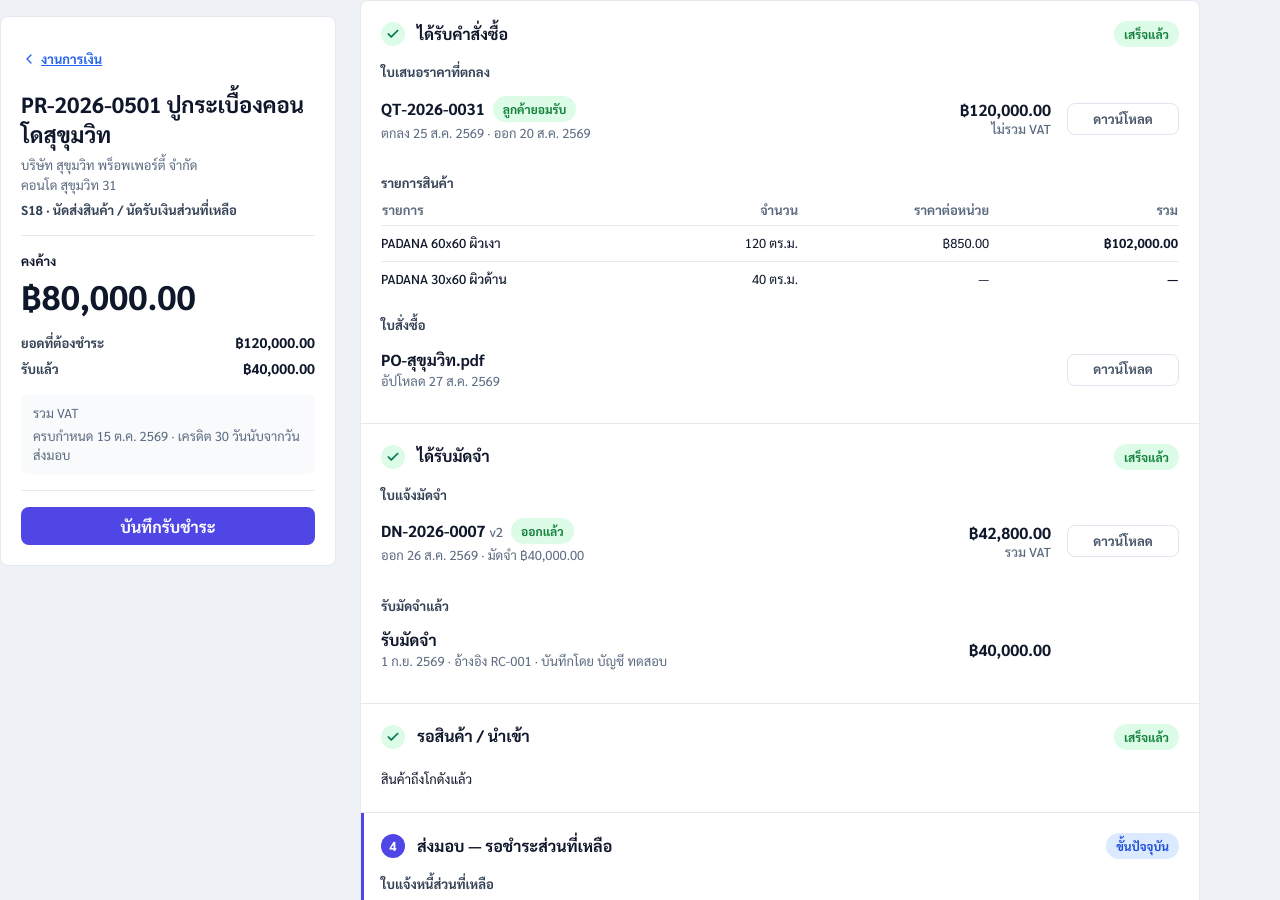
Test: FinanceDealPage › money actions › a server error stays inside the modal (message from the ApiError), and the modal stays open
Click the button "บันทึกรับชำระ" at (168, 526), box x1=21 y1=507 x2=315 y2=545
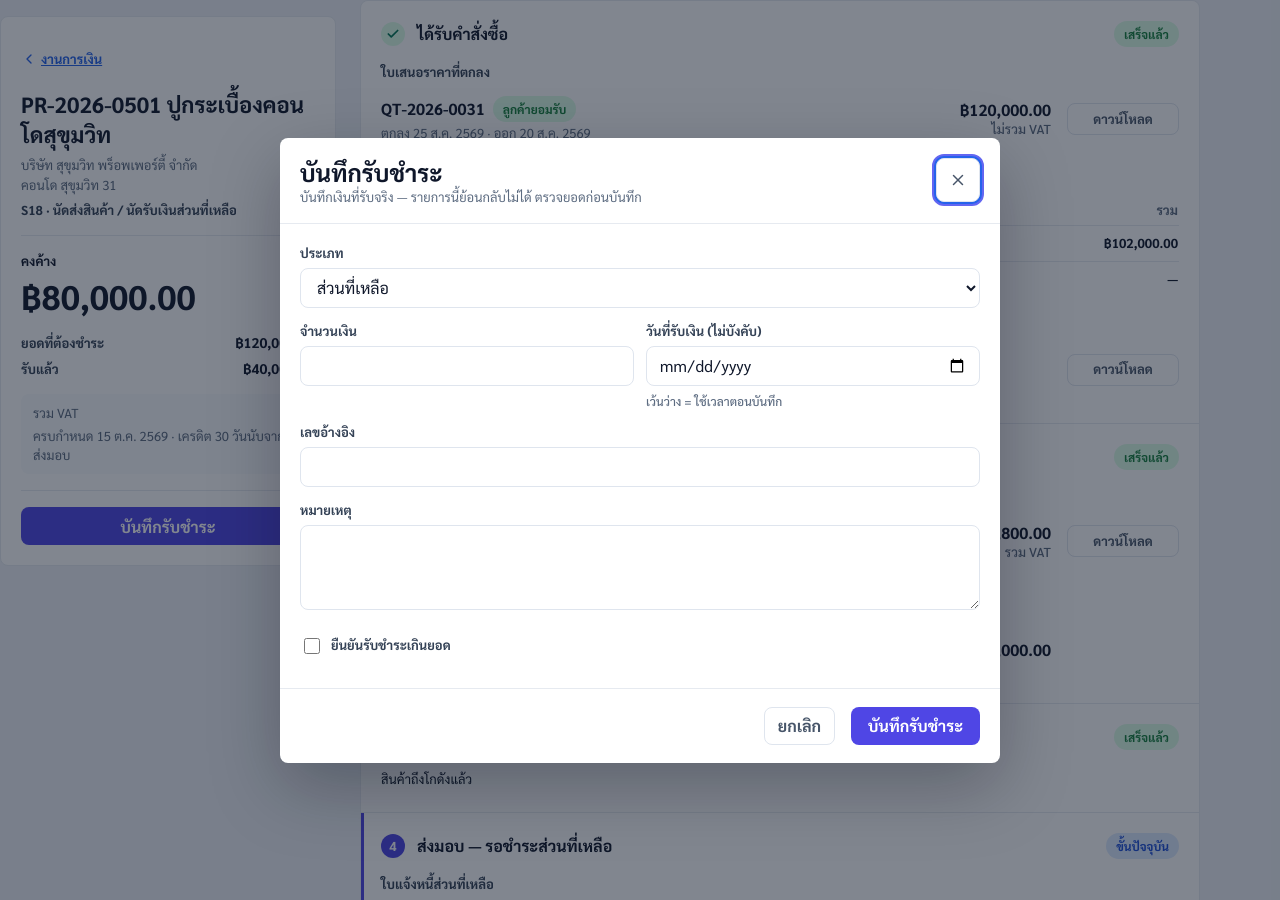
Type "999999" into the number field labelled "จำนวนเงิน" at (467, 366), box x1=300 y1=346 x2=634 y2=386
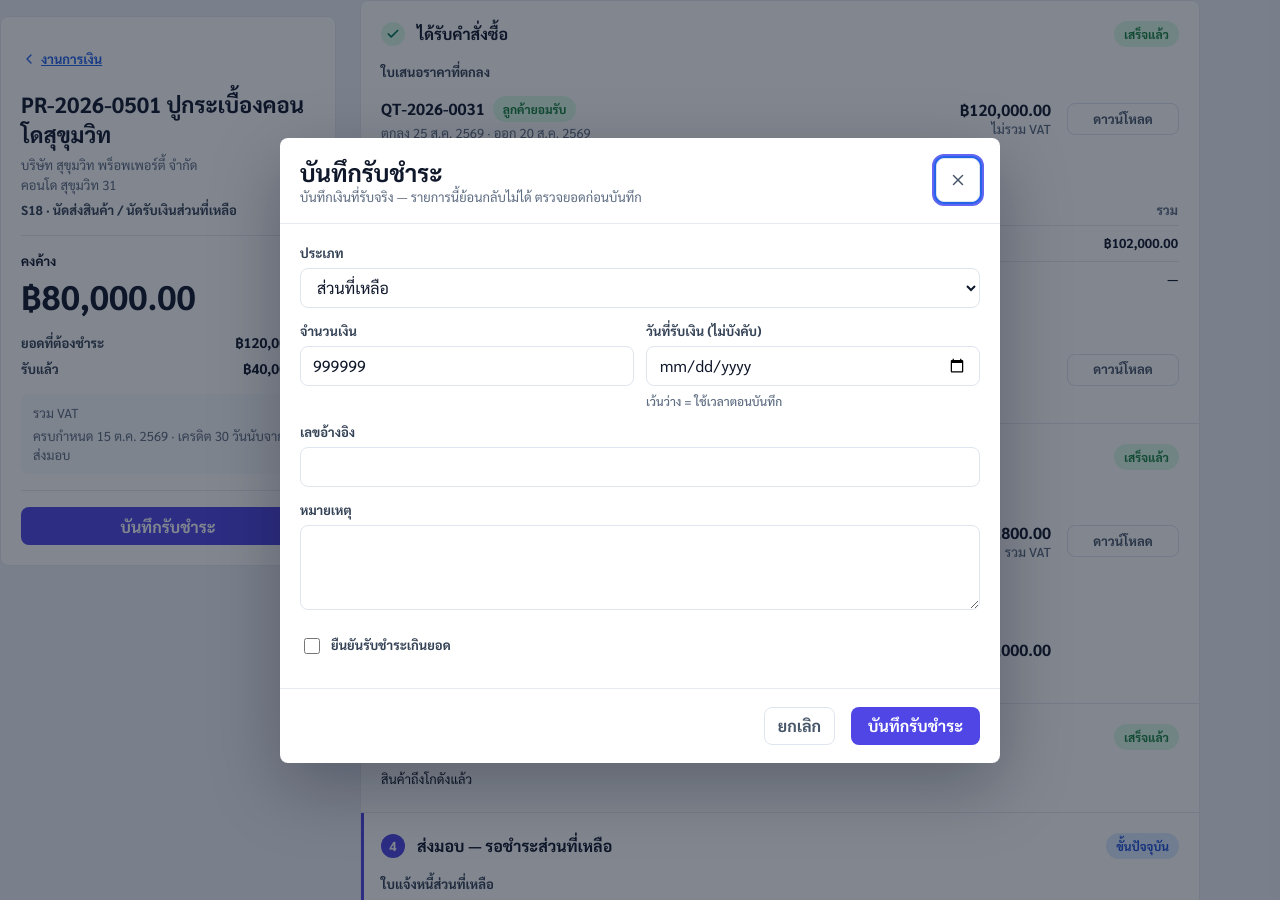
Click the button "บันทึกรับชำระ" at (916, 726), box x1=851 y1=706 x2=980 y2=744
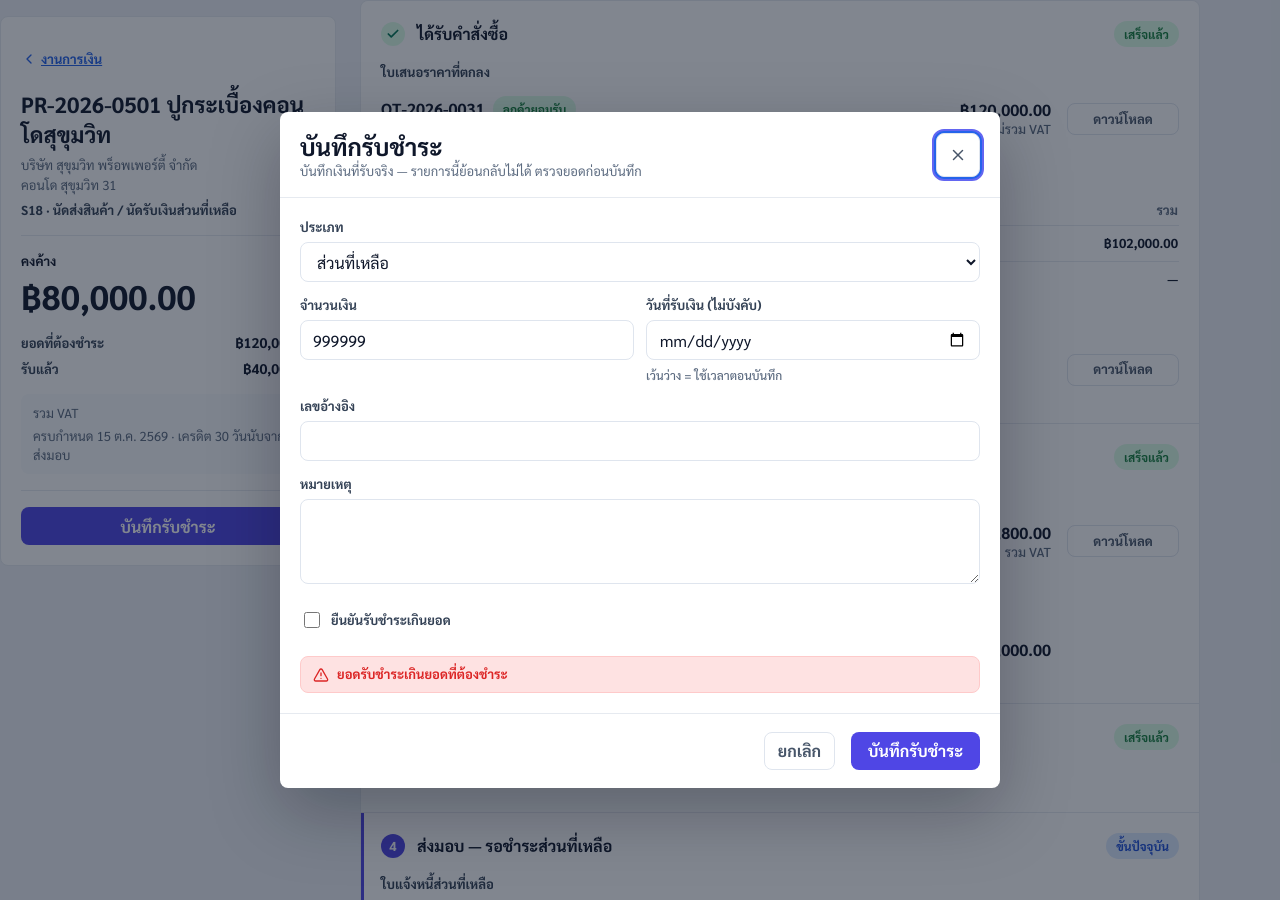
Now the dialog is shown, box x1=280 y1=112 x2=1000 y2=788
Now the message reads "ยอดรับชำระเกินยอดที่ต้องชำระ", box x1=337 y1=665 x2=508 y2=682
